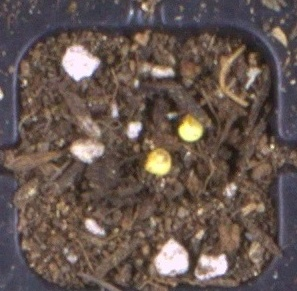chilli seed: (144, 147, 172, 175), (177, 113, 204, 142)
